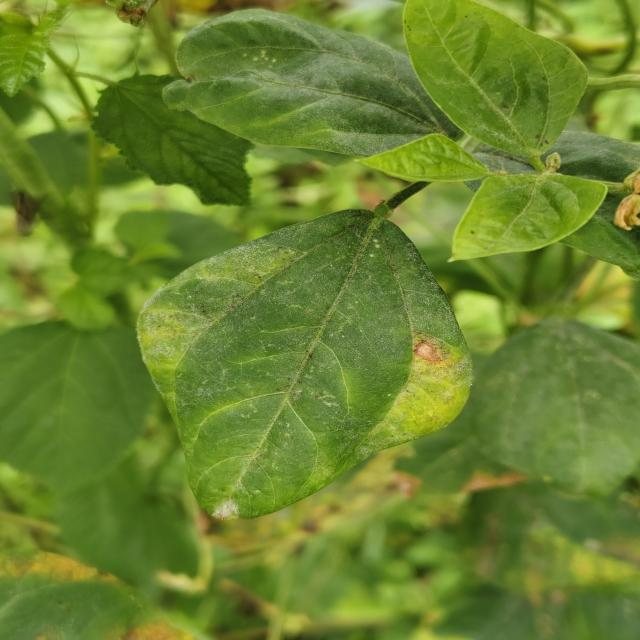leaf-low: (365, 0, 640, 277), (163, 9, 464, 156), (467, 318, 640, 495), (2, 322, 155, 499), (91, 75, 252, 206), (386, 92, 389, 93)
sitaw-aphid-high: (138, 210, 472, 519)
